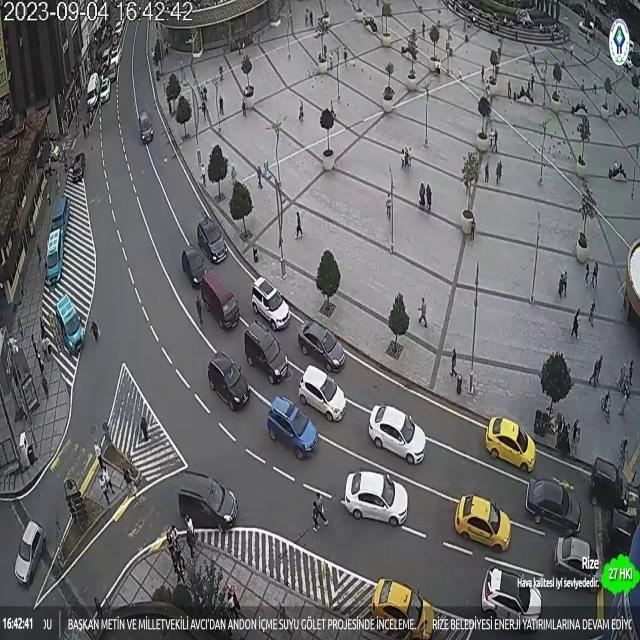Car: (482, 565, 542, 631), (342, 470, 407, 528), (371, 579, 433, 639), (176, 472, 237, 532), (368, 405, 427, 465), (266, 395, 318, 458), (453, 494, 511, 550), (526, 478, 580, 531), (485, 417, 536, 472), (243, 322, 288, 384), (208, 351, 252, 414), (297, 367, 346, 421), (297, 319, 346, 372), (200, 272, 242, 329), (553, 535, 598, 583), (251, 276, 290, 331), (14, 520, 47, 584), (55, 295, 85, 357), (607, 504, 639, 556), (589, 457, 623, 505), (197, 216, 228, 264), (182, 247, 208, 287), (49, 195, 69, 242), (45, 232, 63, 284), (86, 73, 101, 109), (138, 111, 154, 143)
